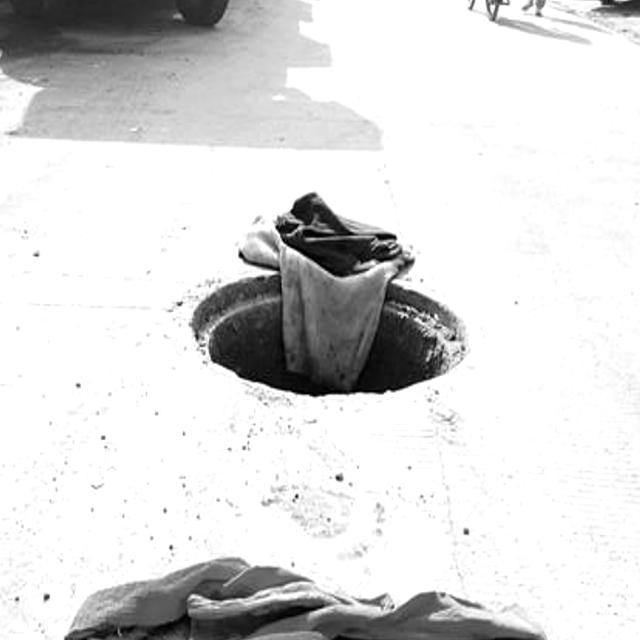lose: (181, 242, 484, 421)
